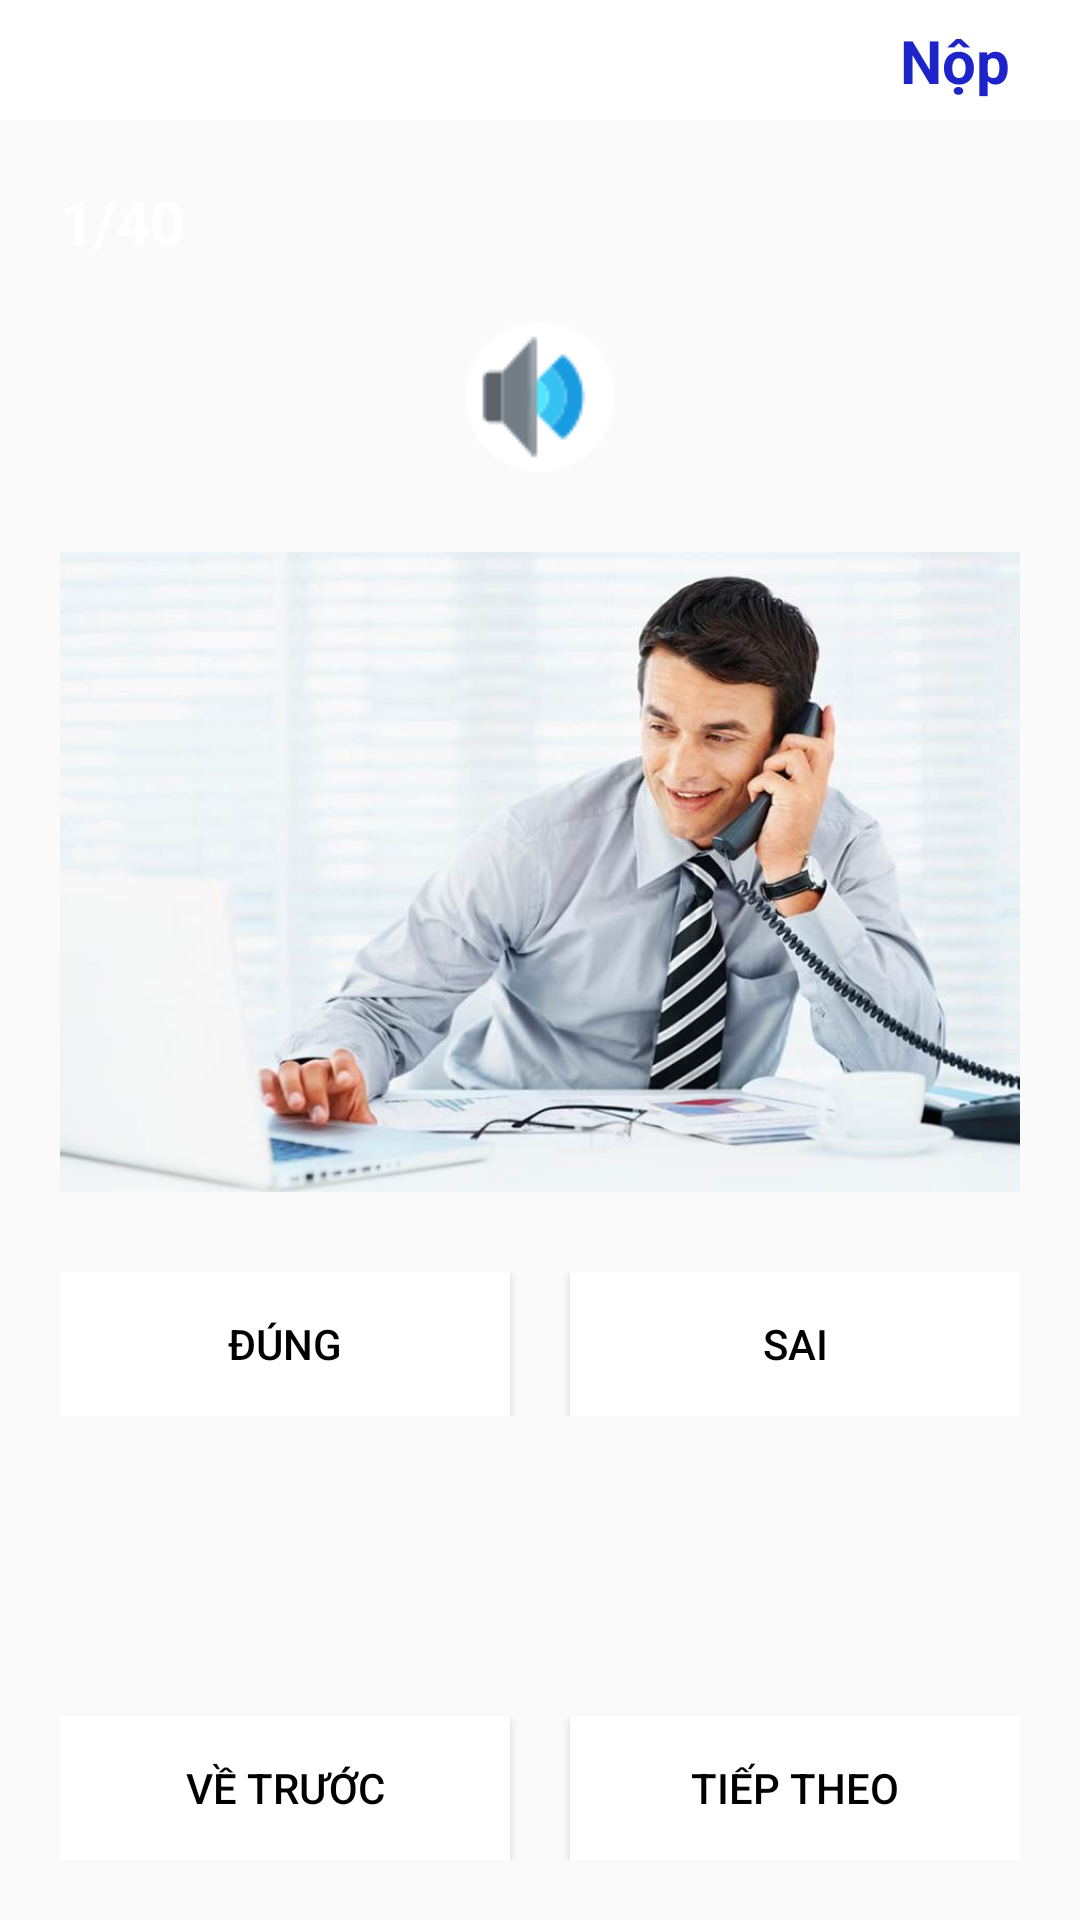

Screen size 1080*1920. Icon name, then its center in pixels as [x,y]:
speaker hsk: [533,397]
